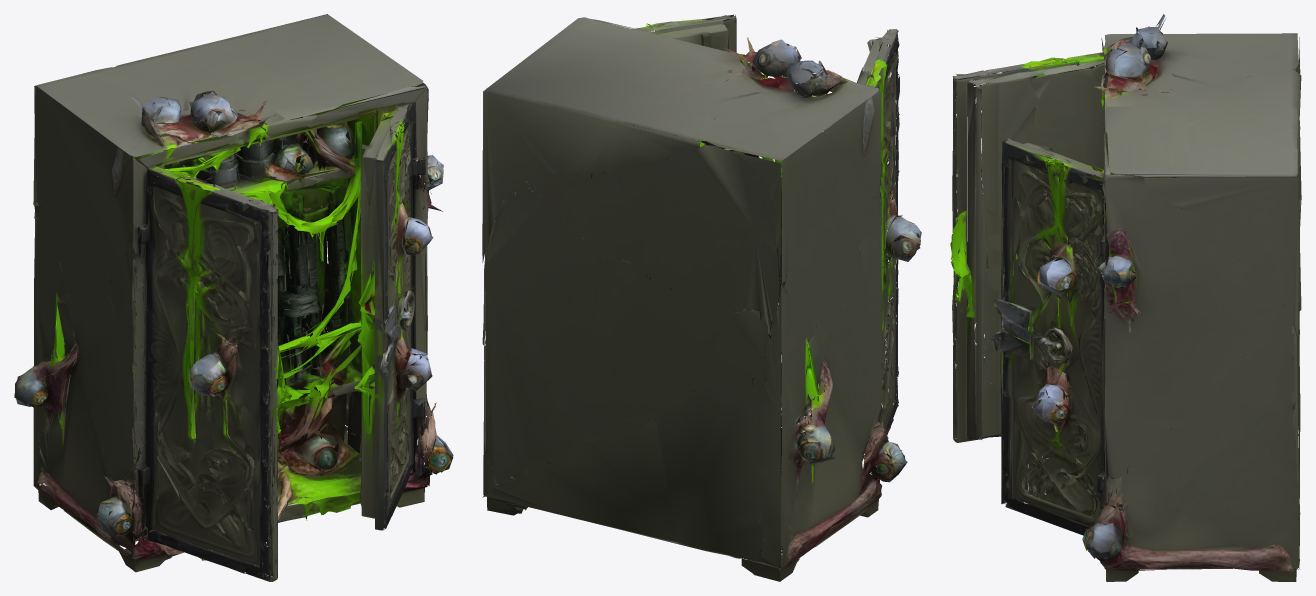
Rendered from quest_infested_armory_cabinet.glb.
3 renders of one model, left to right at view 1: azimuth 30°, elevation 25°; view 2: azimuth 150°, elevation 25°; view 3: azimuth 270°, elevation 25°, orthographic. The views are drawn at different scales.
Visible parts, largest first — view 1: node_0; view 2: node_0; view 3: node_0.
Part boxes in pixels (box(x1,y1,x2,y2)): node_0: box(14, 14, 453, 581); node_0: box(482, 14, 921, 581); node_0: box(950, 14, 1301, 581).
Size of the model in its own units: 0.7085 by 0.8763 by 0.6207.
1 material, 1 textured.
